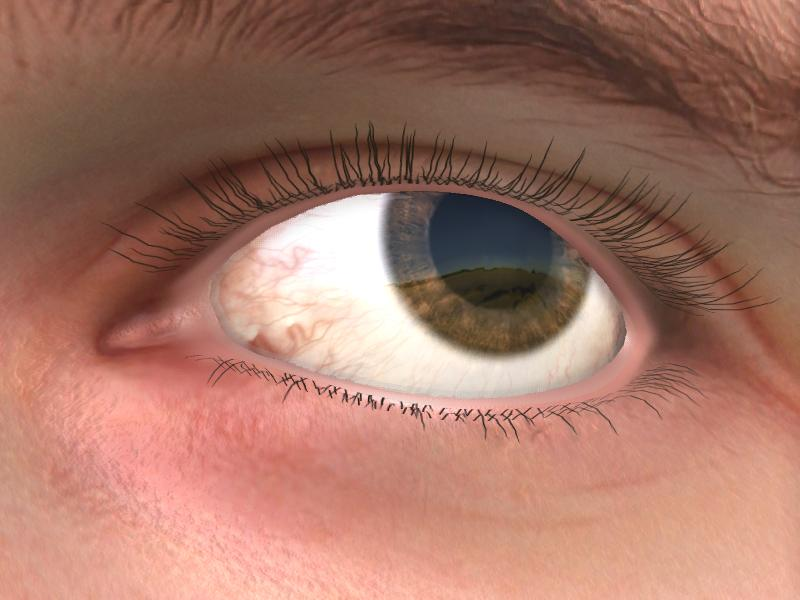eye: (378, 187, 587, 348)
